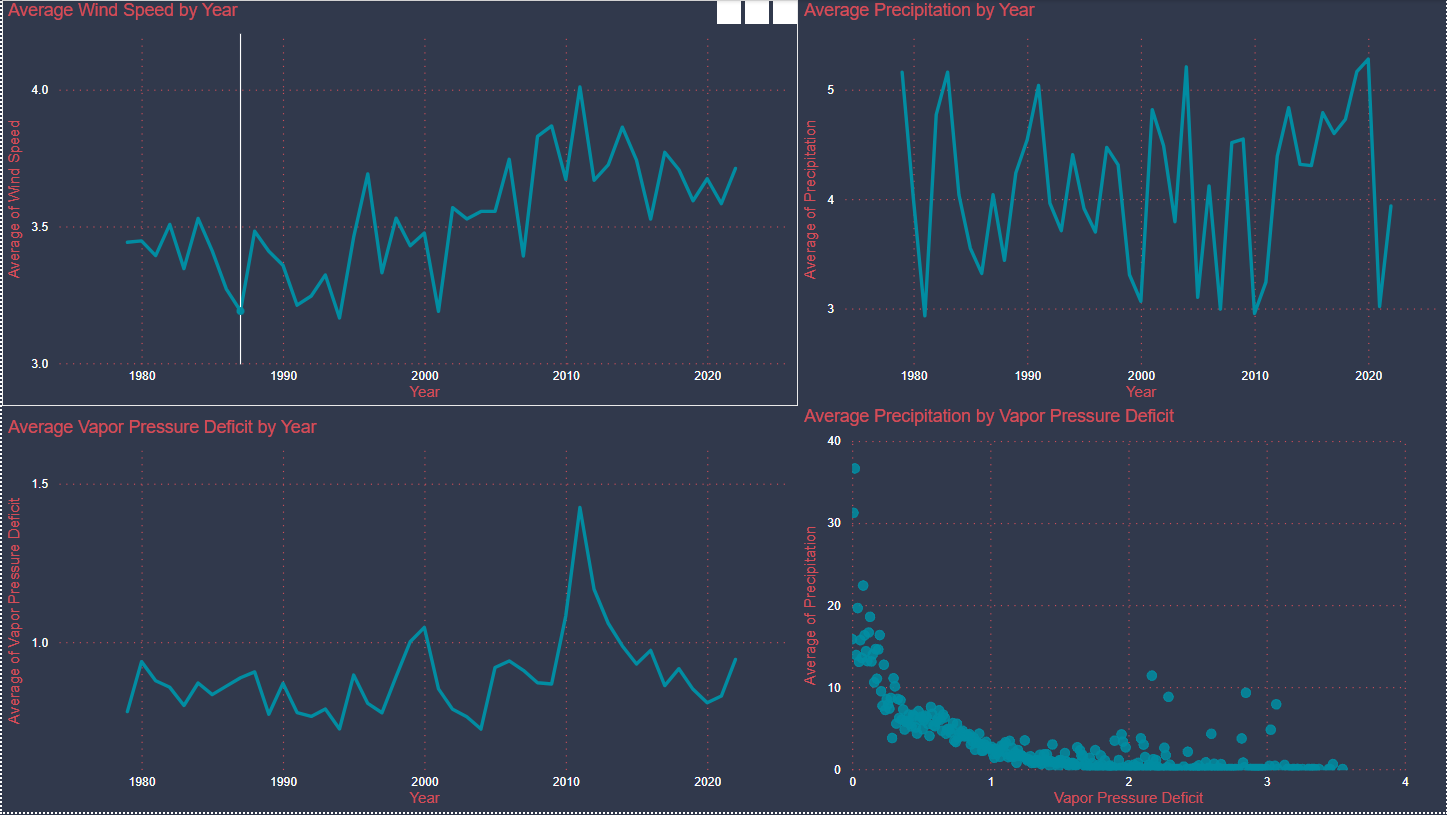

The page's visual inventory and layout, read from the dashboard file:
{"tool":"powerbi","page":{"name":"Mississippi - 2","canvas":[1280,720],"ordinal":1},"visuals":[{"type":"lineChart","title":"Average Wind Speed by Year","fields":{"Category":["Mississippi River CSV.Year"],"Y":["Avg(Mississippi River CSV.Wind Speed)"]},"box":[0,0,705.8,360.4],"z":2000},{"type":"lineChart","title":"Average Vapor Pressure Deficit by Year","fields":{"Category":["Mississippi River CSV.Year"],"Y":["Avg(Mississippi River CSV.Vapor Pressure Deficit)"]},"box":[0,370.2,705.8,349.8],"z":3000},{"type":"lineChart","title":"Average Precipitation by Year","fields":{"Category":["Mississippi River CSV.Year"],"Y":["Avg(Mississippi River CSV.Precipitation)"]},"box":[705.8,0,573.9,360.4],"z":4000},{"type":"scatterChart","title":"Average Precipitation by Vapor Pressure Deficit","fields":{"Y":["Avg(Mississippi River CSV.Precipitation)"],"X":["Mississippi River CSV.Vapor Pressure Deficit"]},"box":[705.8,360.4,547.3,359.6],"z":5000}]}

Visuals, with their boxes in screenshot pixels (x1, y1, x2, y2), scaled from the page's 1280x720 canvas onto the 1447x815 screenshot:
"Average Wind Speed by Year" lineChart: (0,0,798,408)
"Average Vapor Pressure Deficit by Year" lineChart: (0,419,798,814)
"Average Precipitation by Year" lineChart: (798,0,1446,408)
"Average Precipitation by Vapor Pressure Deficit" scatterChart: (798,408,1417,814)
